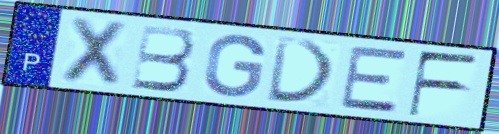B: (129, 23, 198, 94)
D: (264, 35, 340, 106)
E: (338, 45, 409, 115)
F: (406, 49, 482, 119)
G: (201, 33, 269, 100)
X: (57, 14, 132, 91)
